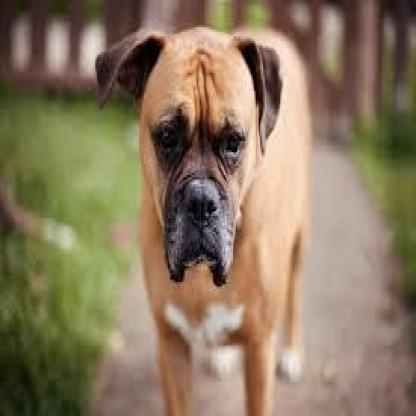cachorro: (87, 7, 335, 387)
